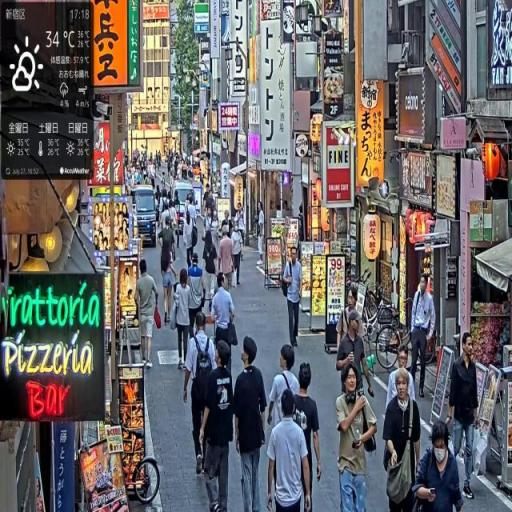person: (199, 341, 237, 512), (234, 332, 270, 512), (337, 362, 380, 512), (183, 311, 218, 481), (447, 331, 481, 505), (383, 365, 423, 512), (266, 388, 312, 512), (412, 420, 465, 512), (291, 363, 323, 512), (409, 271, 437, 401), (338, 314, 375, 401), (135, 256, 161, 371), (212, 271, 239, 374), (282, 243, 304, 355), (171, 268, 193, 375), (386, 345, 418, 416), (160, 216, 180, 322), (188, 252, 207, 341), (202, 228, 219, 313), (219, 227, 236, 294)
